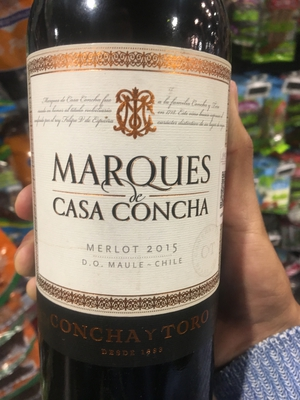marques de casa concha merlot: (20, 12, 243, 376)
